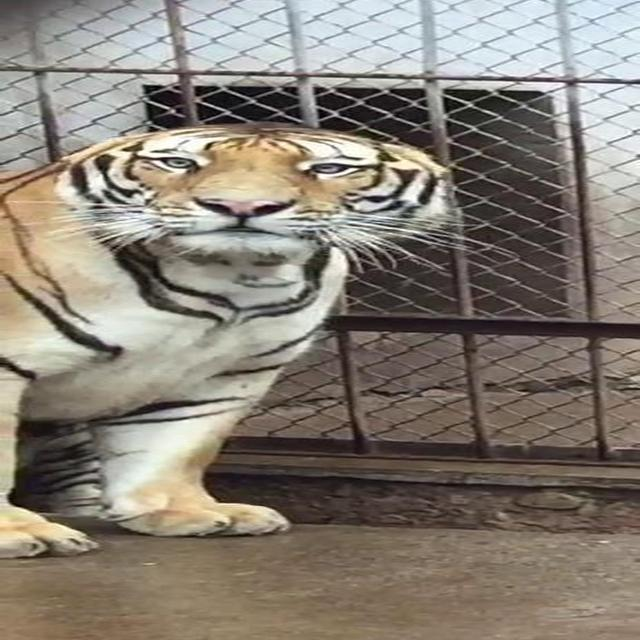tiger: (0, 118, 467, 558)
